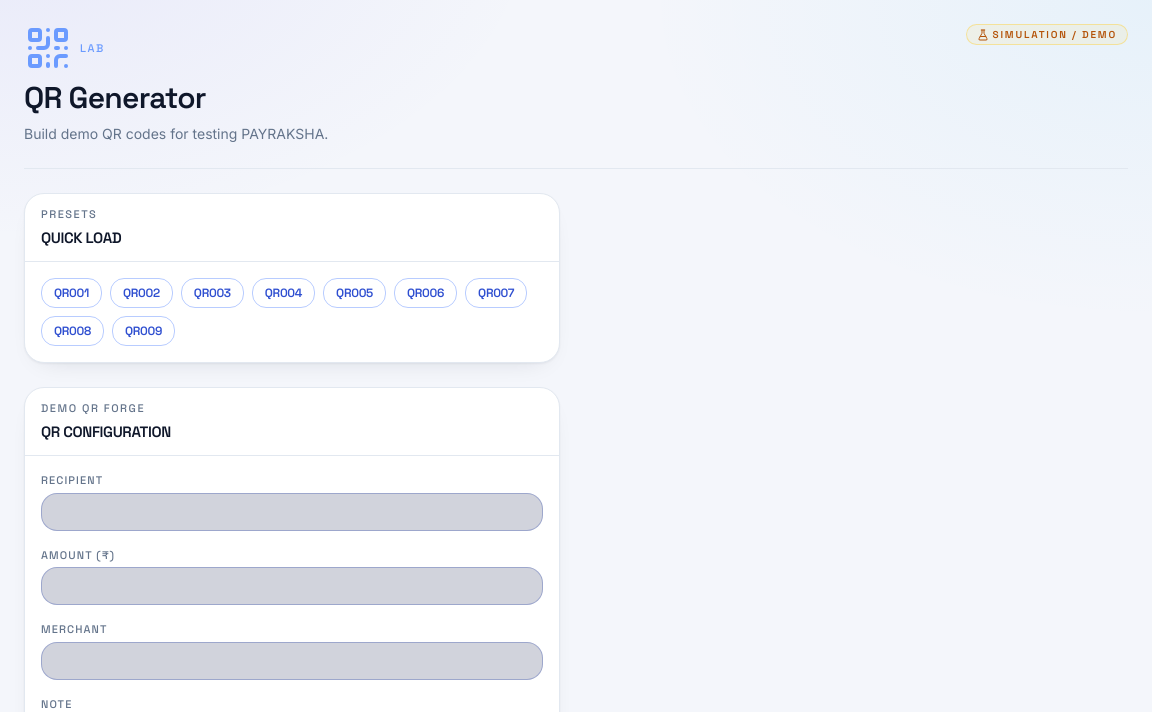
Test case: QrGenerator › validates against payment links
The image size is (1152, 712).
Type "test@demo" into the field labelled "Recipient".
click(292, 512); type("test@demo")  # box [41,492,543,530]
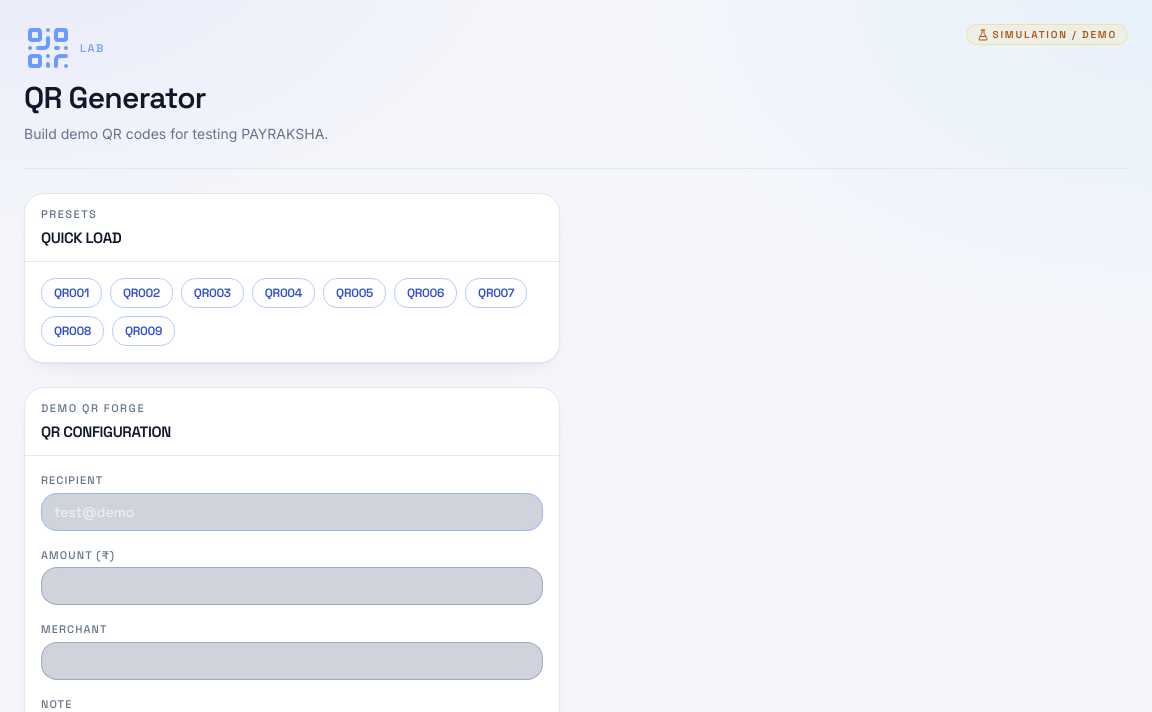
Type "100" into the number field labelled "Amount (₹)".
click(292, 586); type("100")  # box [41,567,543,605]
(page scrolled)
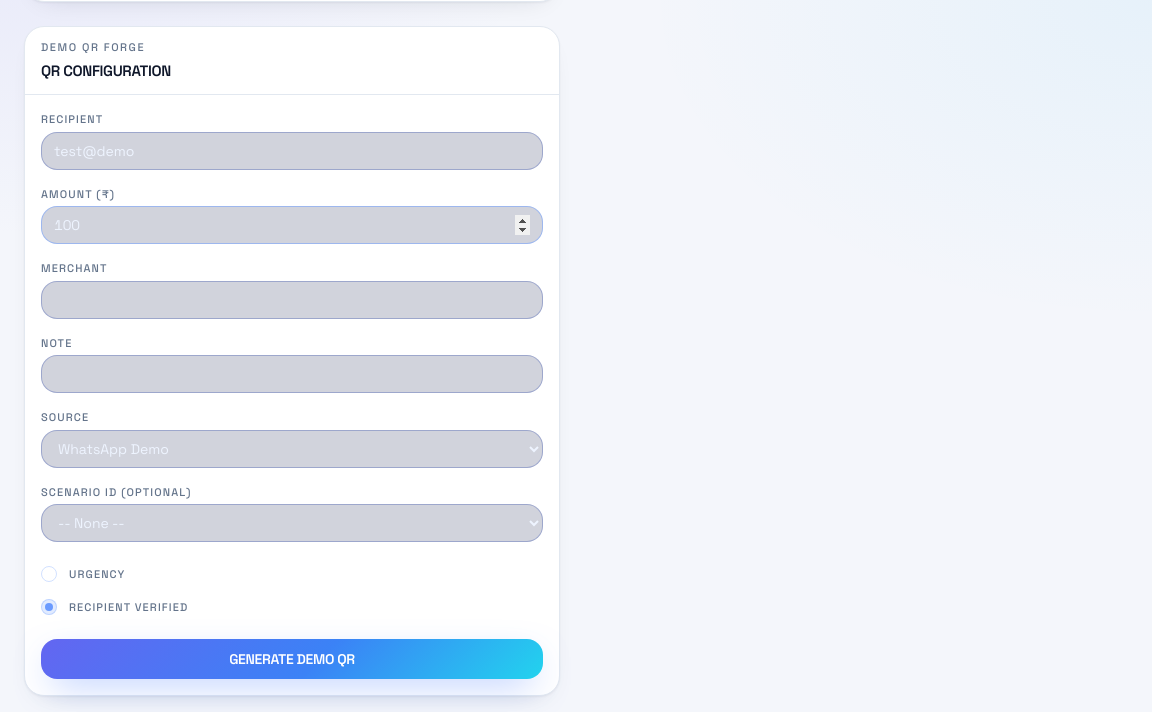
Type "upi://pay?pa=x" into the field labelled "Note".
click(292, 374); type("upi://pay?pa=x")  # box [41,355,543,393]
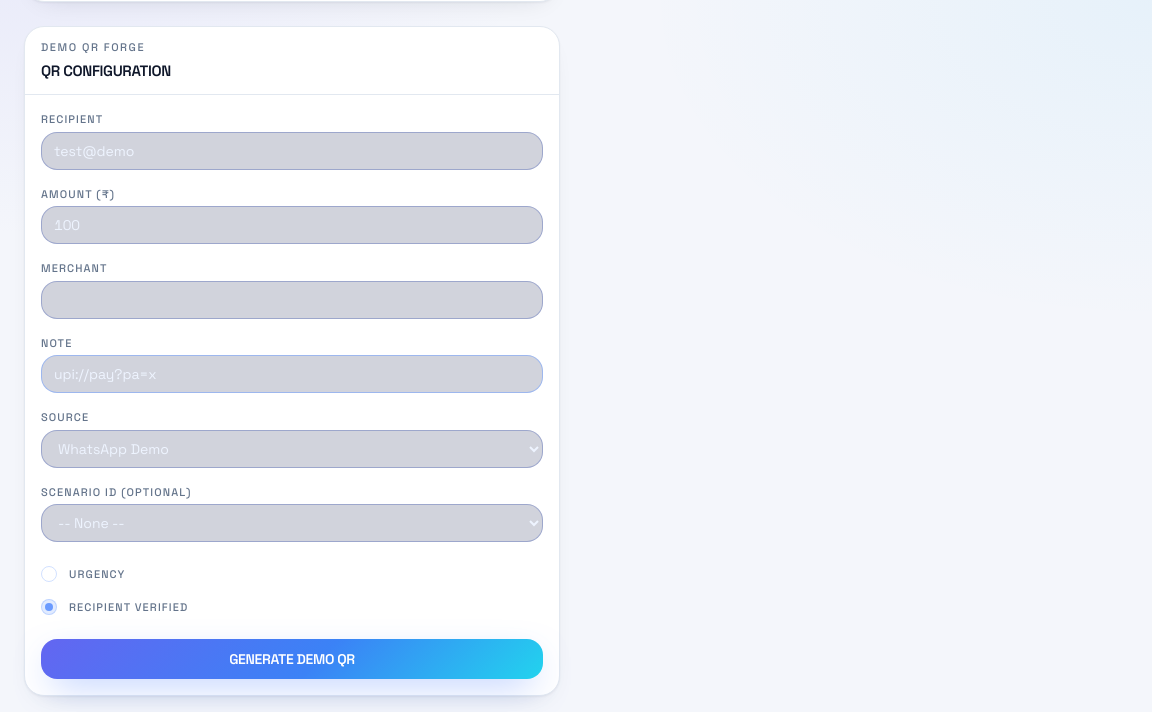
Click the button "GENERATE DEMO QR".
click(292, 659)  # box [41,639,543,679]
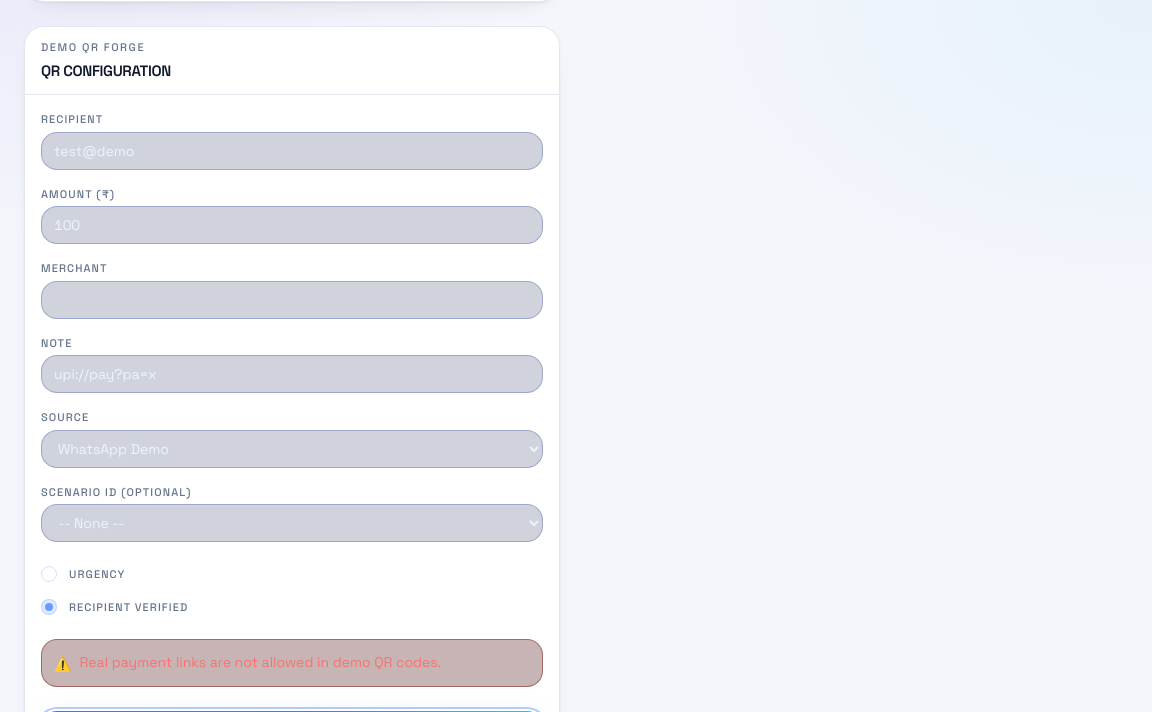
Expected: the message shows "Real payment links are not allowed in demo QR codes.", [80,653,441,671]
